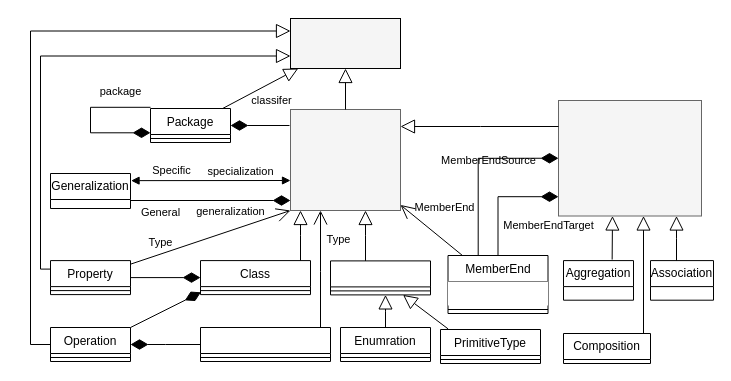
Some shapes in this 731 by 381 pixel diagram are drawn without their labels. The shapes that lost their labels are listed below. From the top down, each one's box as (x1, y1, x2, y2) in pixels, then its label:
(290, 18, 400, 68): Annotable «abstract»
(290, 108, 400, 210): Classifer «abstract»
(558, 100, 702, 216): RelationShip «abstract»
(330, 260, 430, 295): DataType
(448, 281, 548, 305): role: string
(200, 326, 330, 362): Parameter
